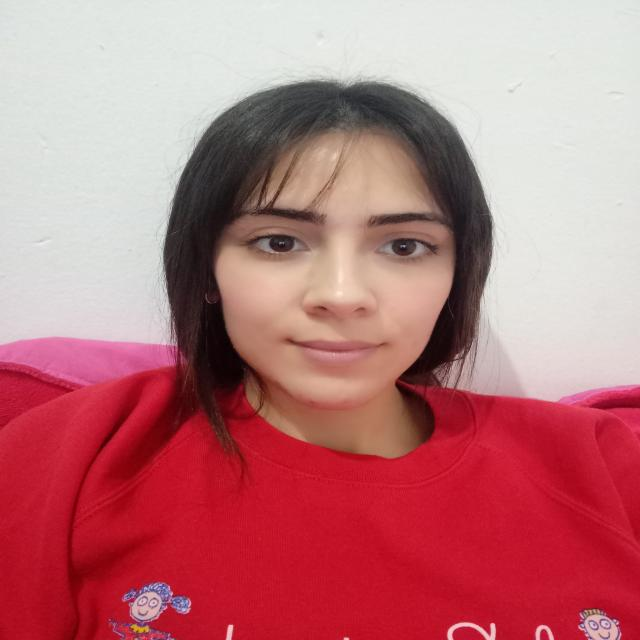eyebrow: (367, 211, 456, 235), (244, 205, 328, 228)
